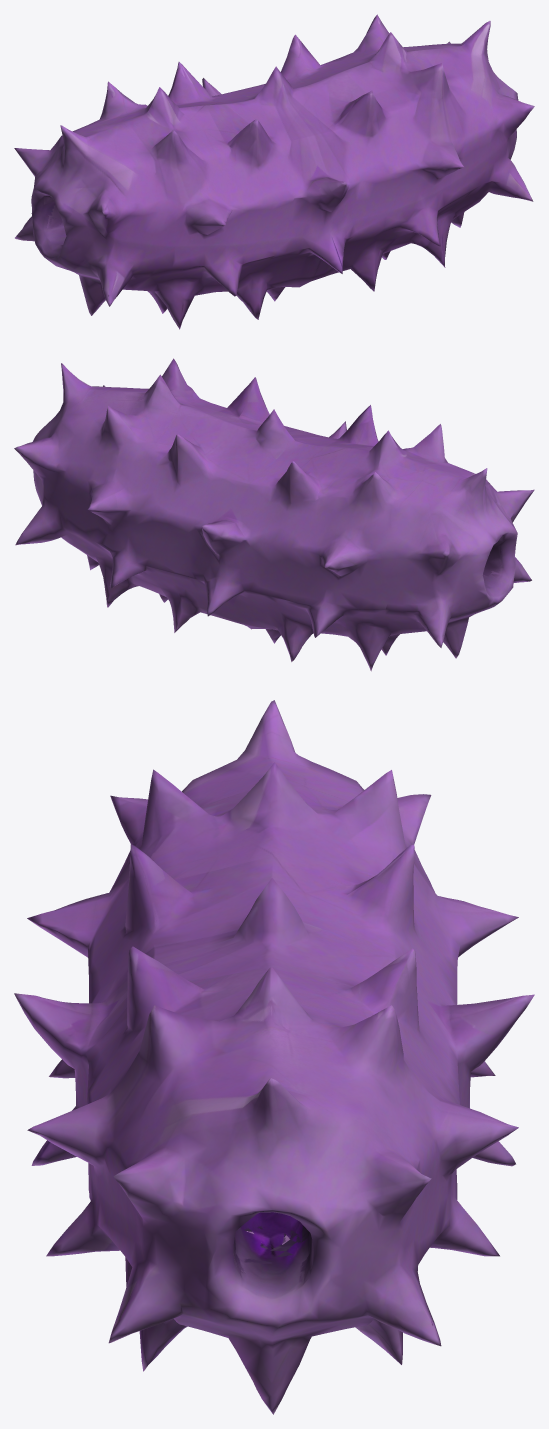
The model's file is seacucumber.glb.
3 views of the same model, one above another, from view 1: azimuth 30°, elevation 25°; view 2: azimuth 150°, elevation 25°; view 3: azimuth 270°, elevation 25° (orthographic). The views are drawn at different scales.
Size of the model in its own units: 2 by 1.01 by 1.08.
1 material, 1 textured.
